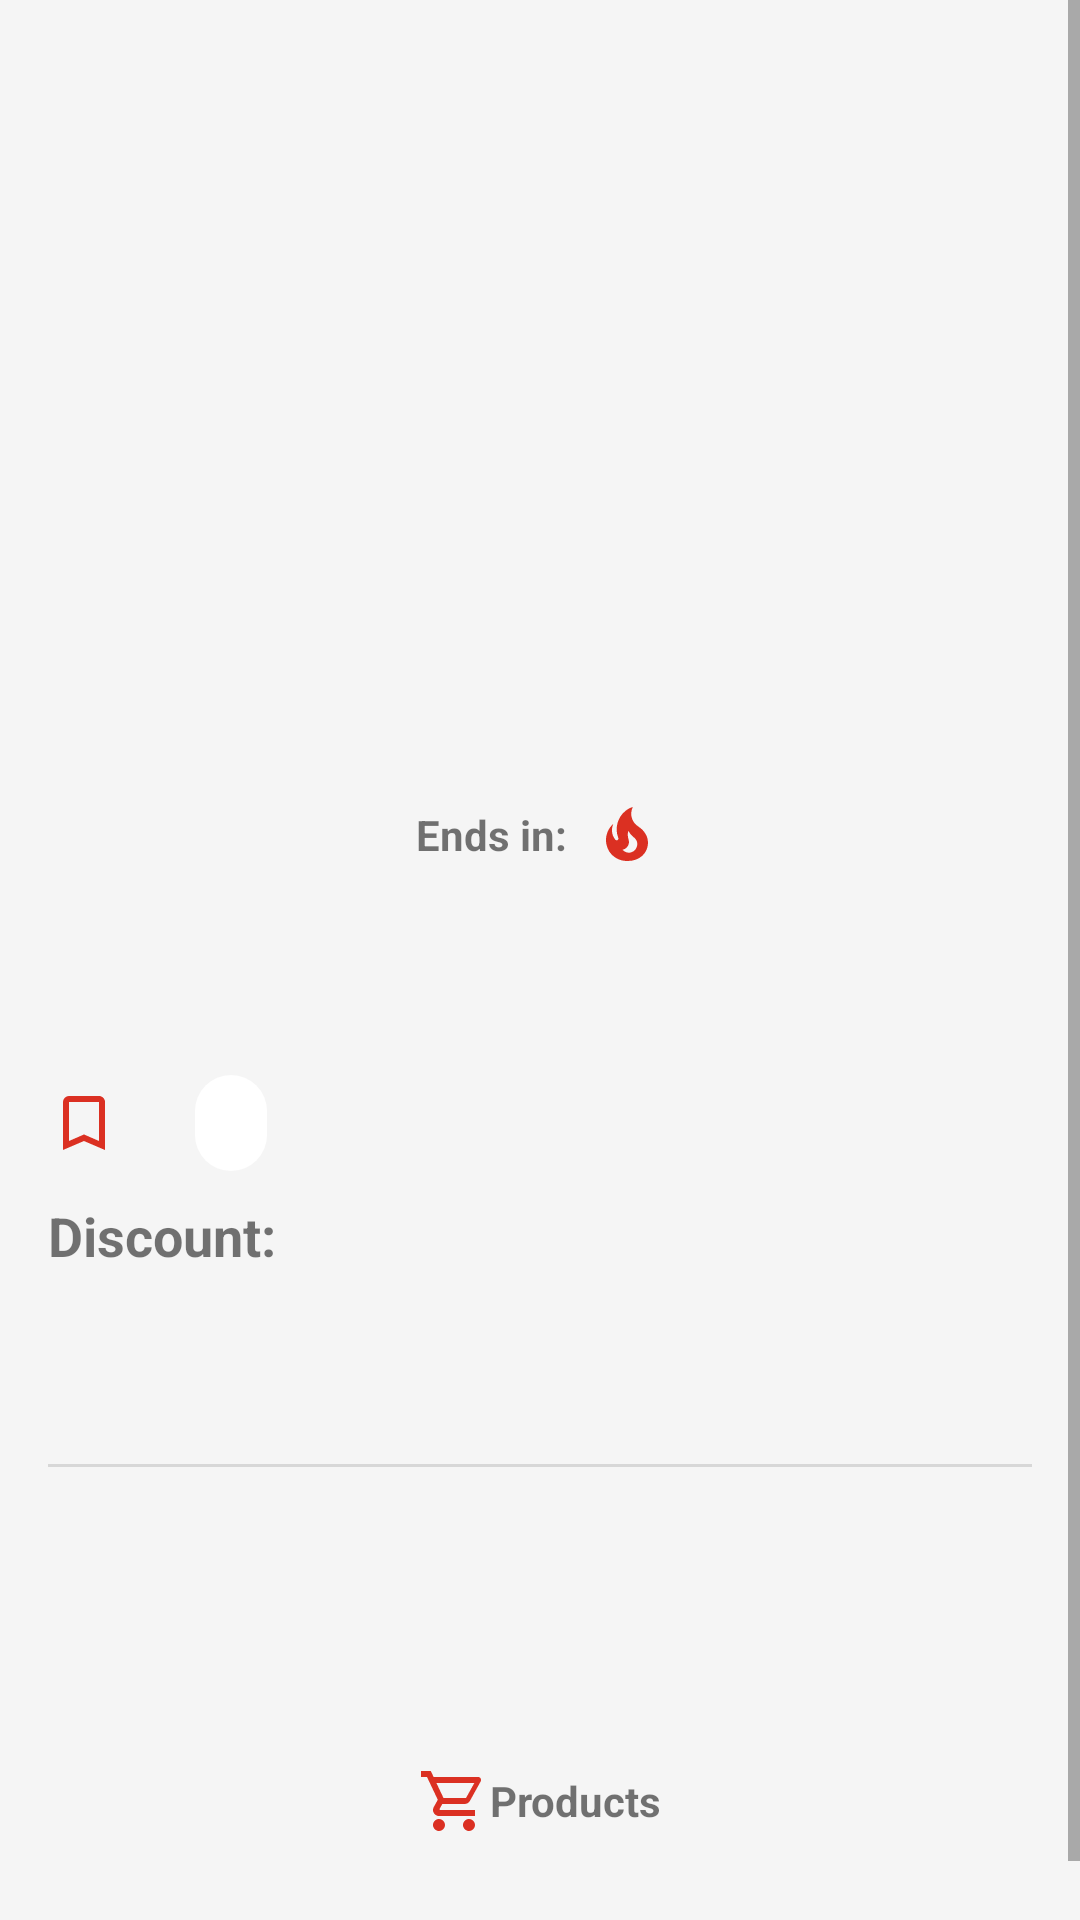

Icon bounding boxes for this 1080w x 1920h phone screenshot, format Rect(x1, y1, x2, y2):
bookmark: Rect(63, 1096, 105, 1150)
cart: Rect(421, 1771, 481, 1831)
fire: Rect(606, 807, 648, 861)
